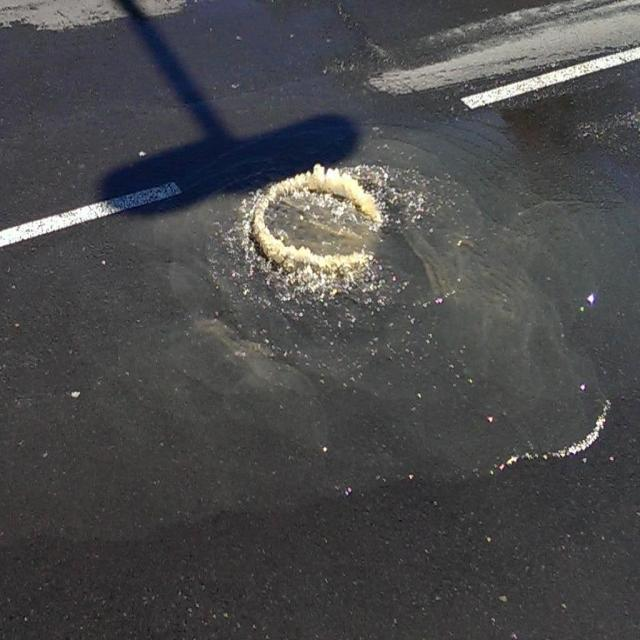water_leak: (195, 161, 546, 402)
